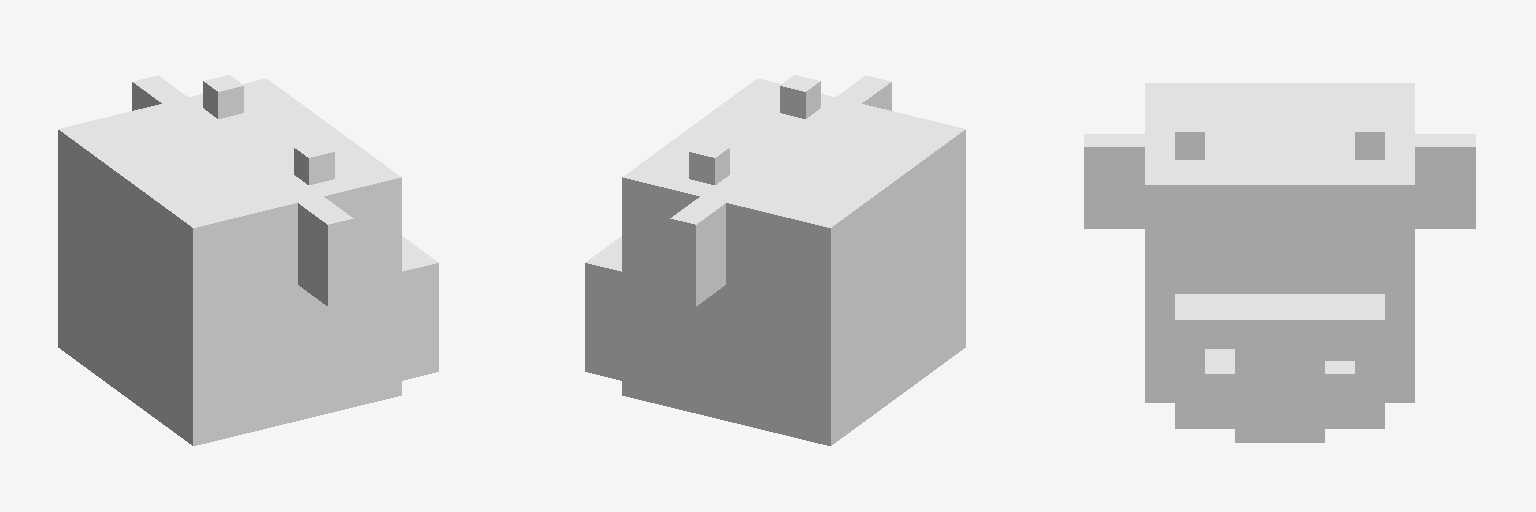
Rendered from Animals-43.obj.
3 renders of one model, left to right at view 1: azimuth 30°, elevation 25°; view 2: azimuth 150°, elevation 25°; view 3: azimuth 270°, elevation 25°, orthographic.
Parts seen in each view (by area): view 1: object 1; view 2: object 1; view 3: object 1.
Boxes of the visible parts, box(x1,y1,x2,y2) form: object 1: box(58, 75, 438, 445); object 1: box(585, 75, 965, 445); object 1: box(1084, 83, 1475, 442).
Size of the model in its own units: 1 by 1 by 1.3.